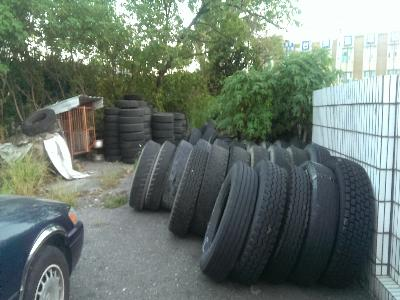tire: (229, 158, 288, 287), (198, 162, 259, 283), (320, 156, 373, 291), (289, 160, 340, 289), (262, 164, 311, 286), (167, 148, 209, 238), (128, 137, 161, 211), (145, 139, 177, 213), (21, 107, 58, 137), (152, 113, 174, 124), (119, 108, 145, 117), (151, 121, 174, 131), (121, 139, 145, 148), (119, 148, 143, 157), (119, 132, 145, 140), (120, 116, 145, 124), (119, 124, 143, 132), (153, 130, 175, 138)
